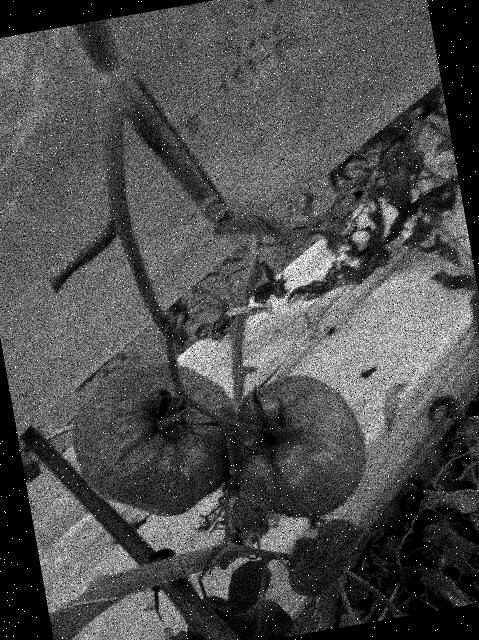b_green: (59, 349, 251, 532), (214, 364, 375, 529)
